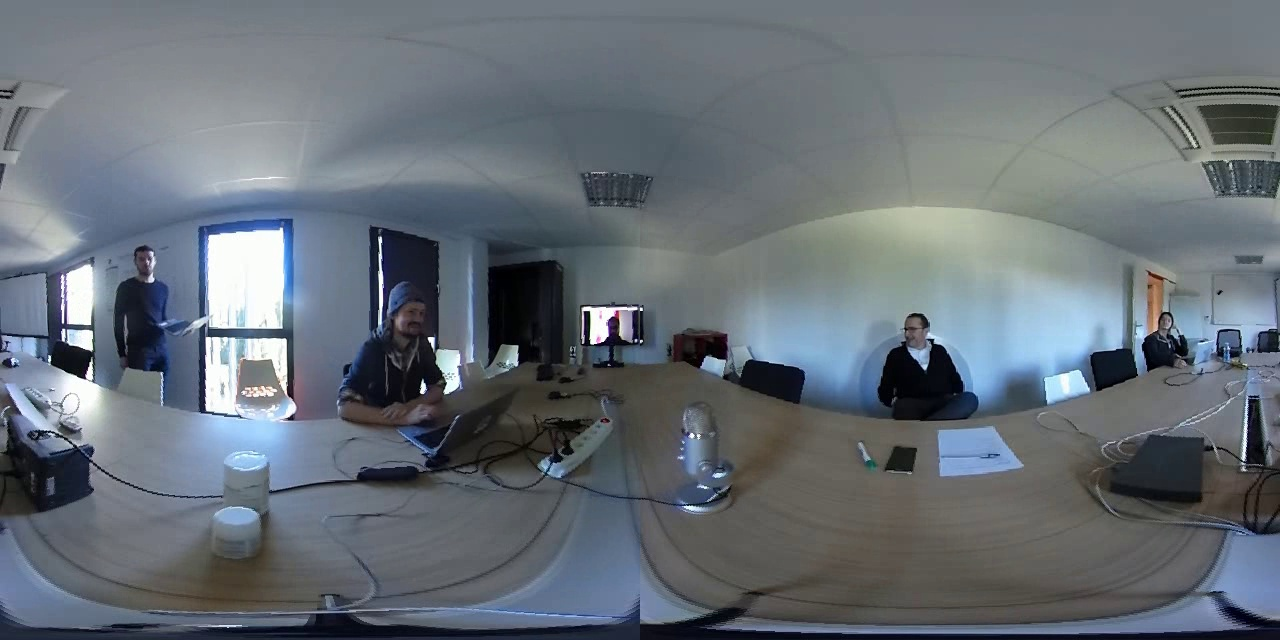person: (334, 268, 479, 422), (871, 307, 979, 418), (108, 237, 195, 368), (1137, 304, 1189, 370), (580, 306, 641, 343)
